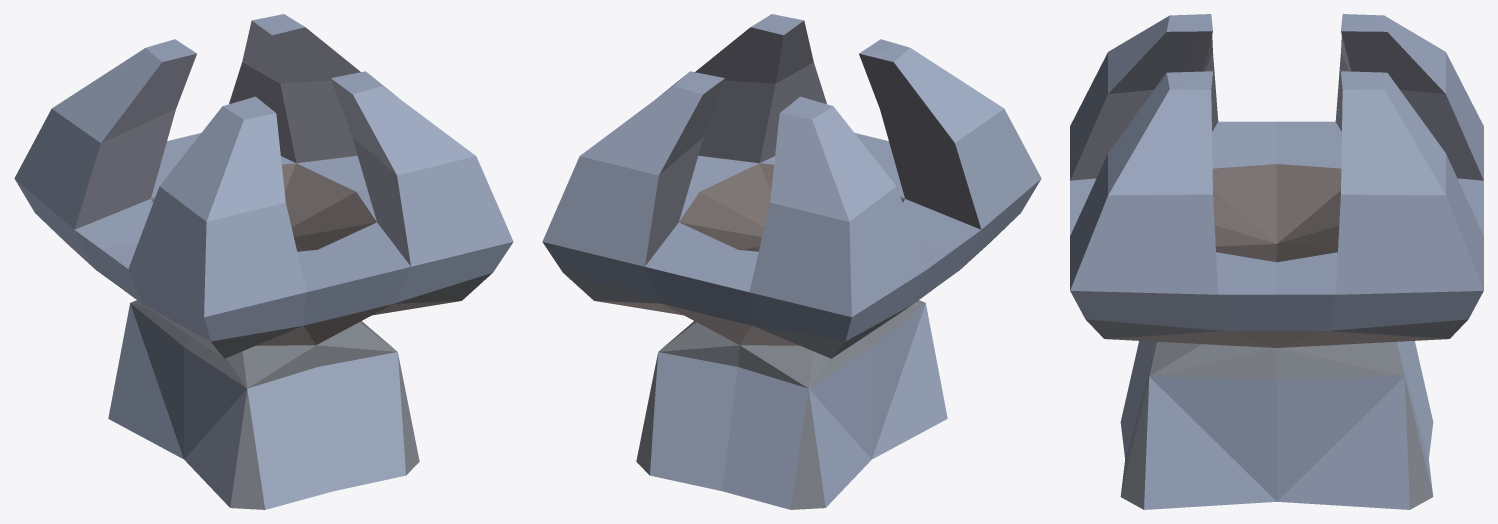
The model's file is Altar_00_half.FBX.
3 renders of one model, left to right at view 1: azimuth 30°, elevation 25°; view 2: azimuth 150°, elevation 25°; view 3: azimuth 270°, elevation 25°, orthographic. The views are drawn at different scales.
Visible parts, largest first — view 1: Altar_00_half; view 2: Altar_00_half; view 3: Altar_00_half.
Boxes of the visible parts, x1,y1,x2,y2 form: Altar_00_half: (14,14,513,509); Altar_00_half: (542,14,1041,509); Altar_00_half: (1070,14,1483,509).
Bounding box in the file's own units: 82.49 × 90.78 × 83.38.
